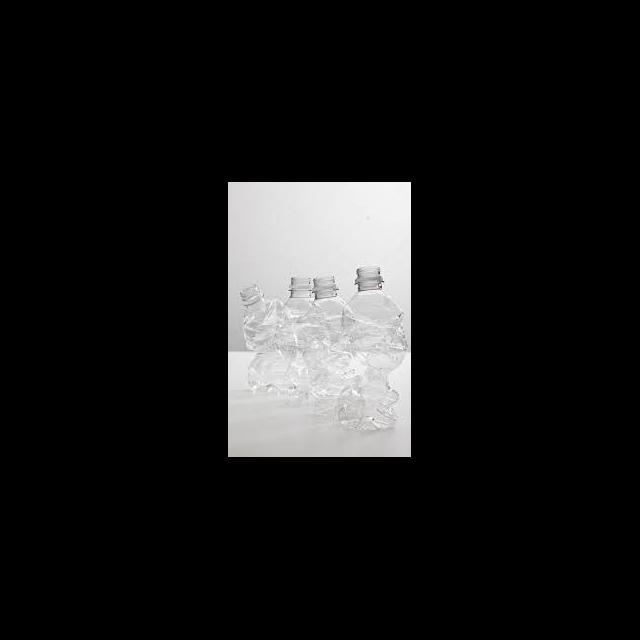plastic: (338, 266, 408, 430), (300, 274, 348, 419), (274, 274, 326, 404), (240, 282, 292, 394)
